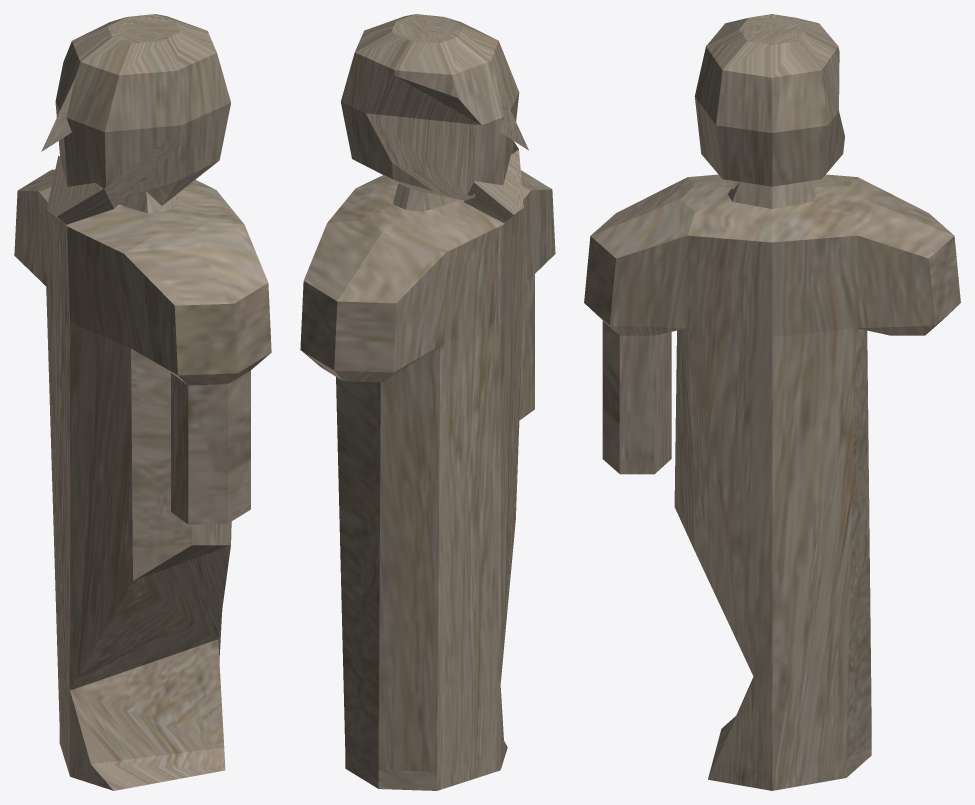
Rendered from Statue10.fbx.
3 views of the same model, side by side, from view 1: azimuth 30°, elevation 25°; view 2: azimuth 150°, elevation 25°; view 3: azimuth 270°, elevation 25° (orthographic).
Visible parts, largest first — view 1: Circle, Cube.001, Cube; view 2: Circle, Cube.001, Cube; view 3: Circle.
Boxes of the visible parts, x1,y1,x2,y2 form: Circle: [14, 14, 271, 790]; Cube.001: [46, 136, 181, 224]; Cube: [41, 79, 74, 151]; Circle: [300, 14, 555, 790]; Cube.001: [464, 142, 523, 222]; Cube: [496, 79, 528, 150]; Circle: [584, 14, 960, 790].
Size of the model in its own units: 48.21 by 189 by 89.1.
